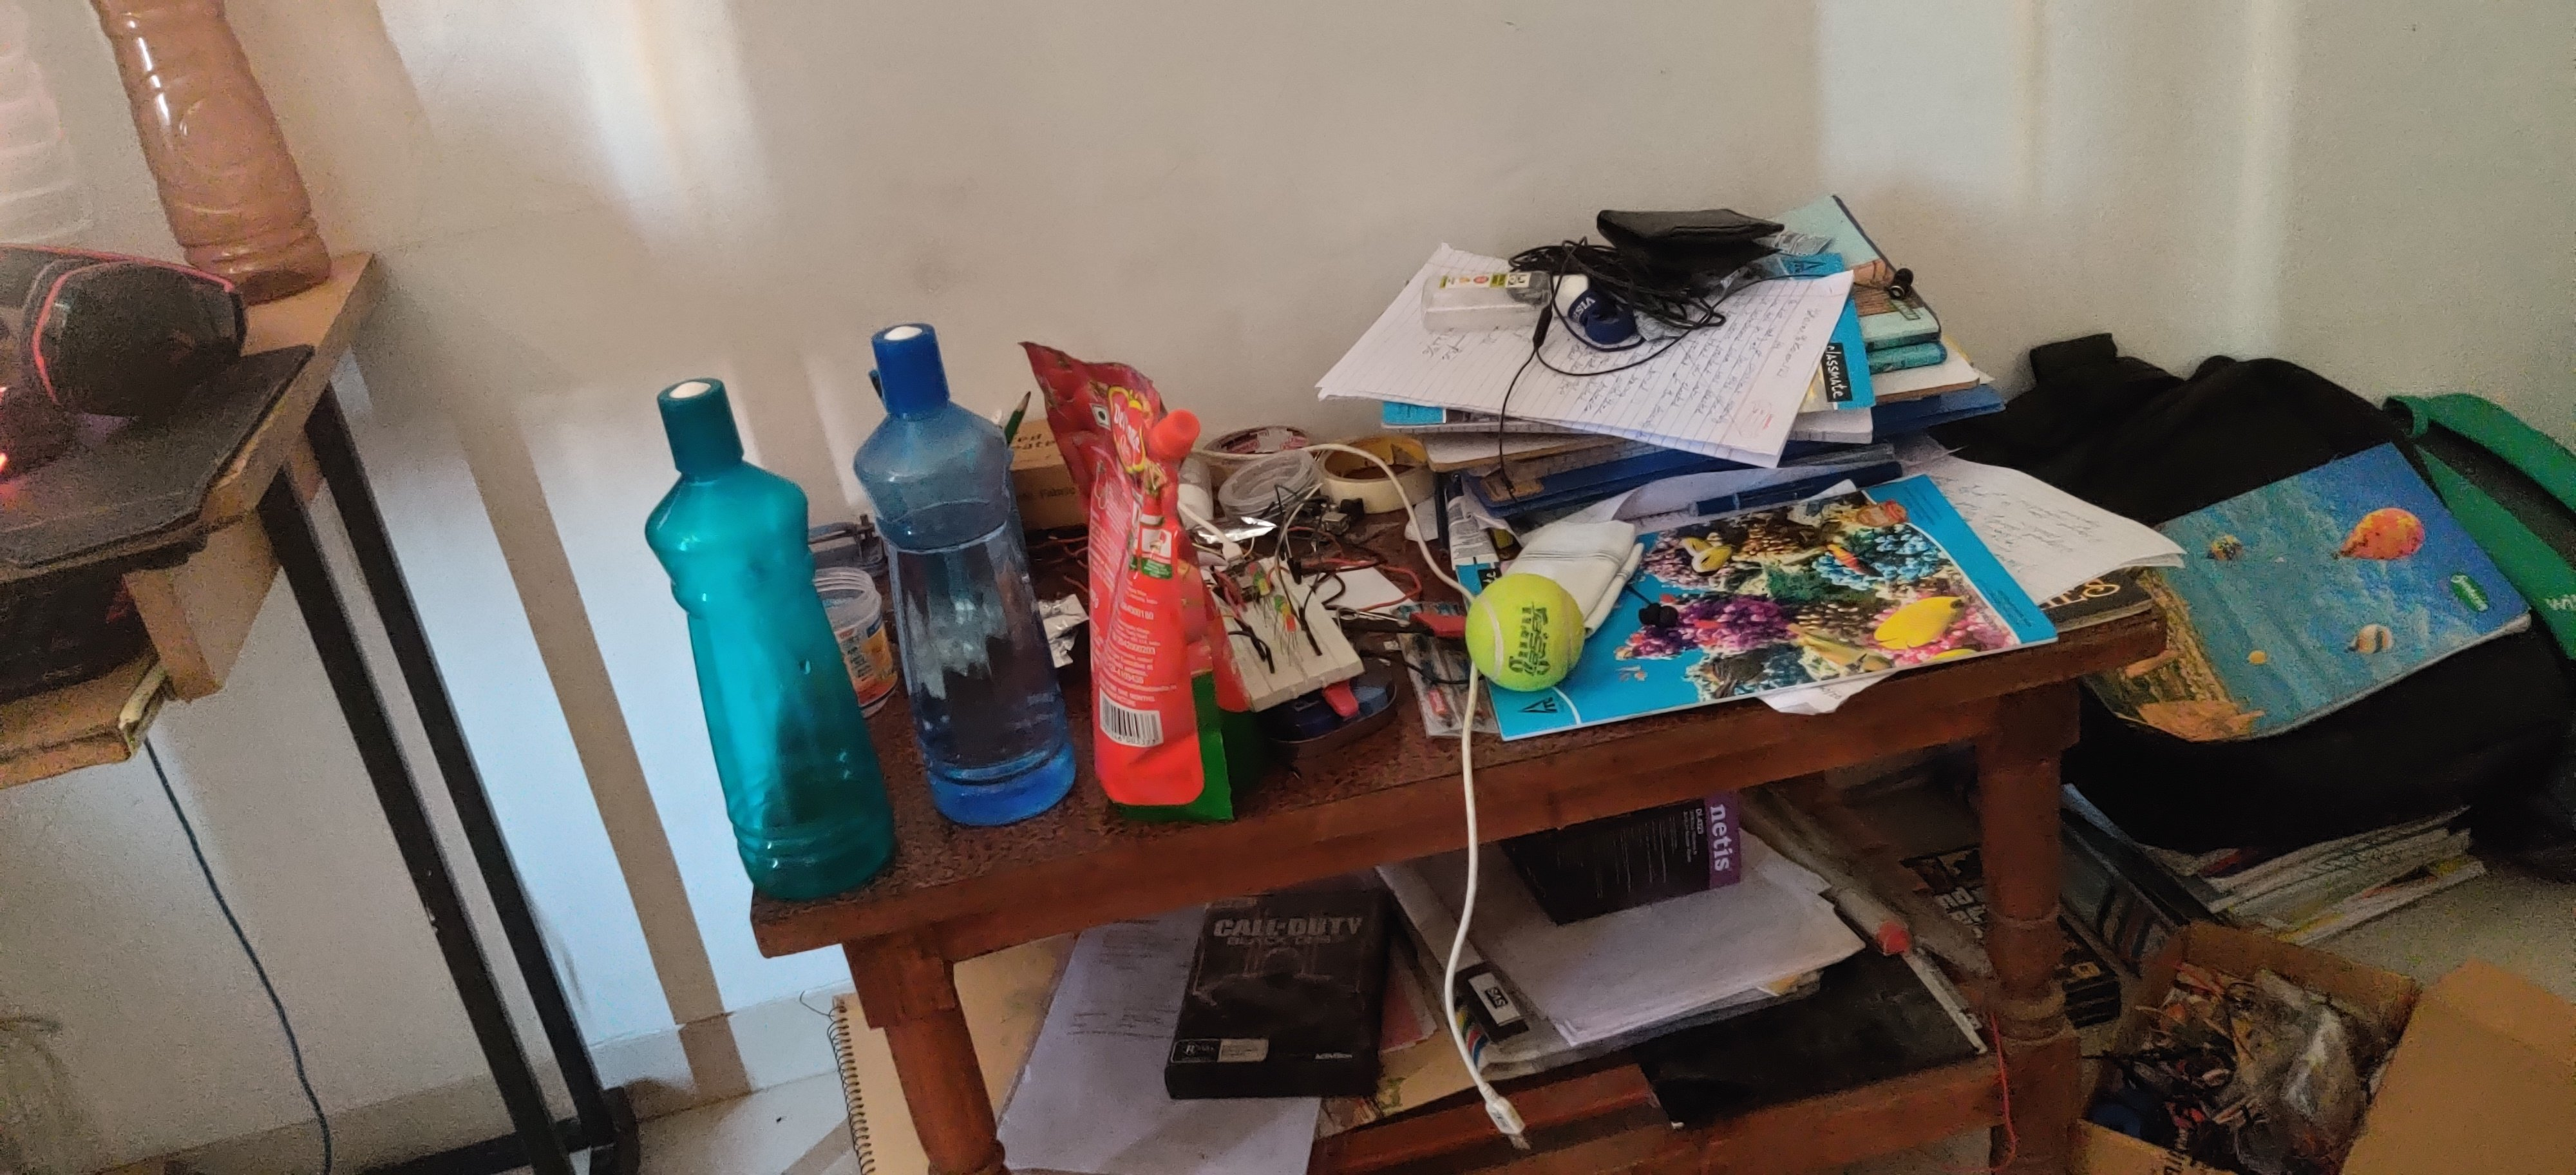Tennis-Ball: (1465, 574, 1585, 692)
